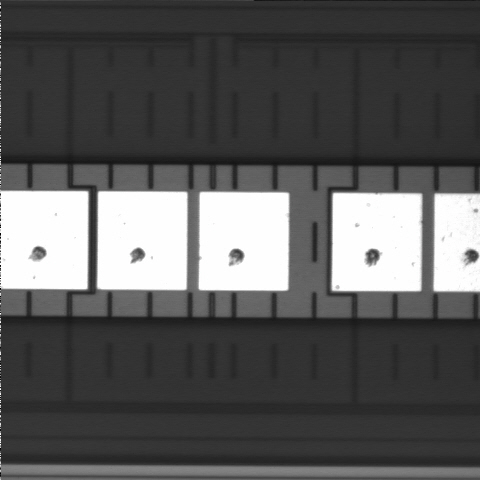pad: (97, 191, 187, 290), (199, 192, 289, 291), (332, 193, 422, 291)
